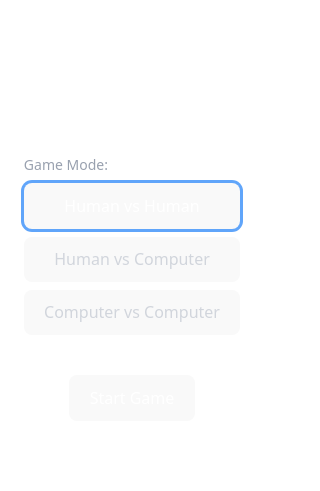
App › setup screen › shows difficulty selector when HvC mode is selected
The image size is (320, 491).
Click the button "Human vs Computer" at x=132, y=259, box [24, 236, 240, 282]
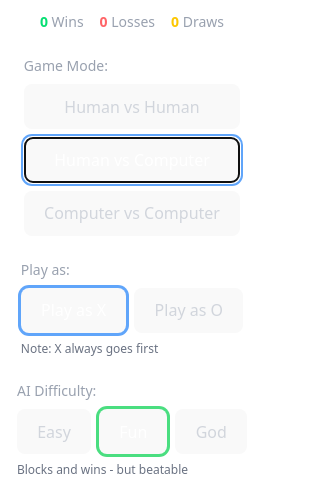
Now the text "AI Difficulty:" is shown, box [17, 381, 96, 400]
Now the button "Fun" is shown, box [99, 409, 168, 454]
Now the button "God" is shown, box [176, 409, 247, 454]
